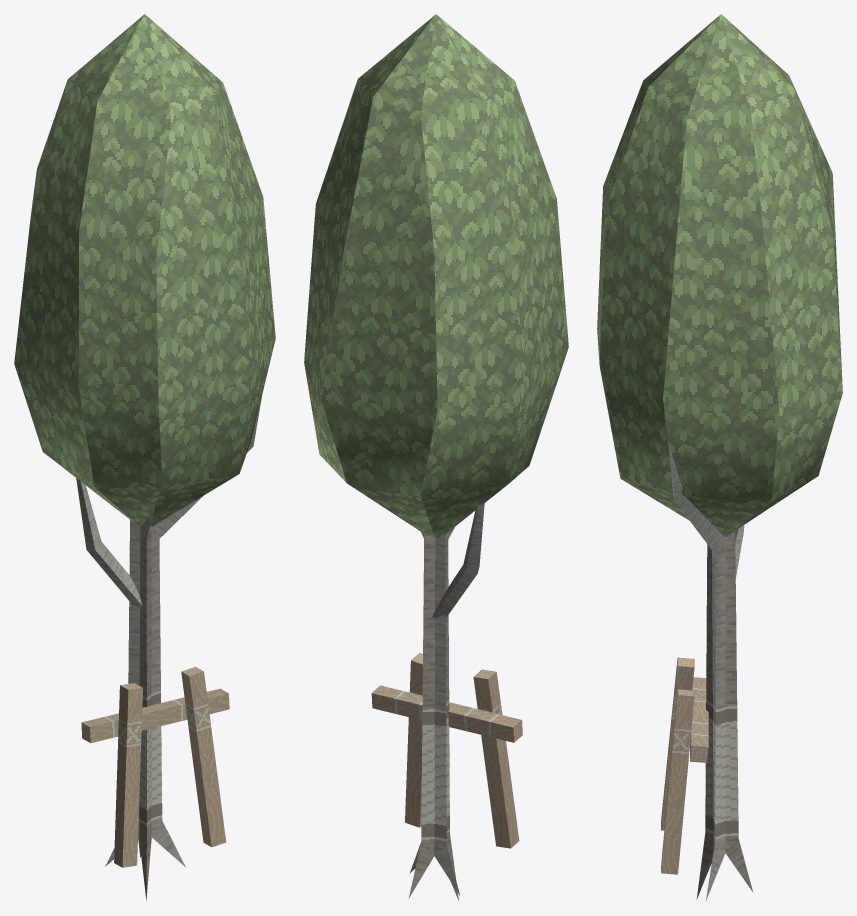
Rendered from 00fb_Small_Tree.glb.
3 views of the same model, side by side, from view 1: azimuth 30°, elevation 25°; view 2: azimuth 150°, elevation 25°; view 3: azimuth 270°, elevation 25° (orthographic). The views are drawn at different scales.
Visible parts, largest first — view 1: part_0; view 2: part_0; view 3: part_0.
Boxes of the visible parts, <box> form: part_0: <box>14,14,275,901</box>; part_0: <box>304,14,568,900</box>; part_0: <box>597,14,842,900</box>.
Size of the model in its own units: 1.11 by 4.44 by 1.11.
Materials: 1 (1 with a texture image).
